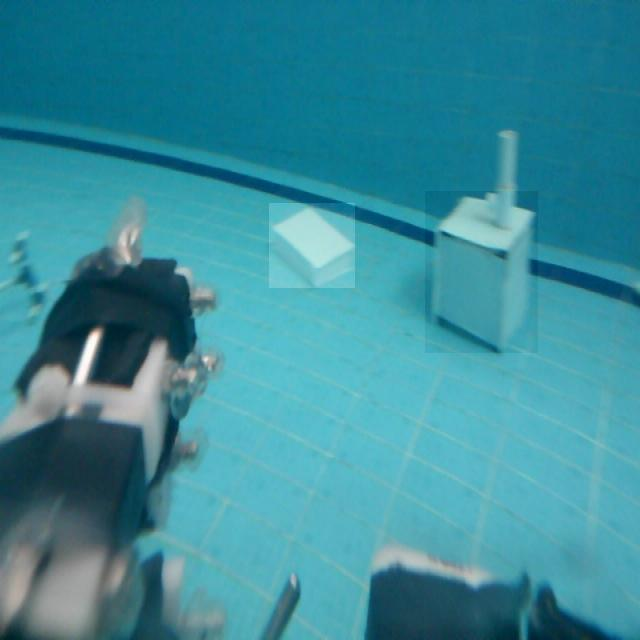Cube: (425, 191, 538, 353)
Cuboid: (269, 203, 355, 288)
